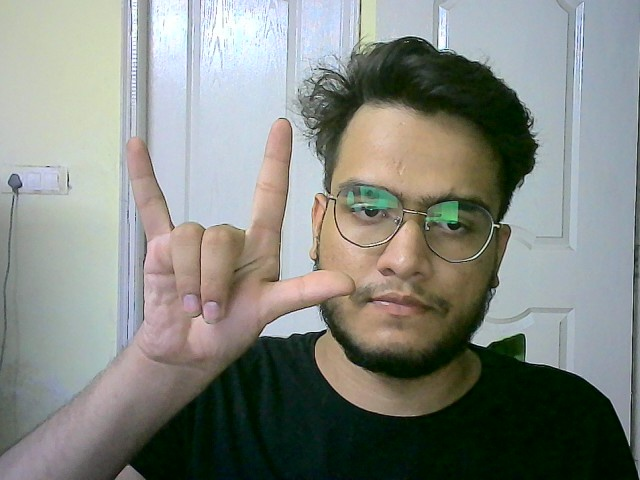I Love You: (126, 116, 361, 374)
